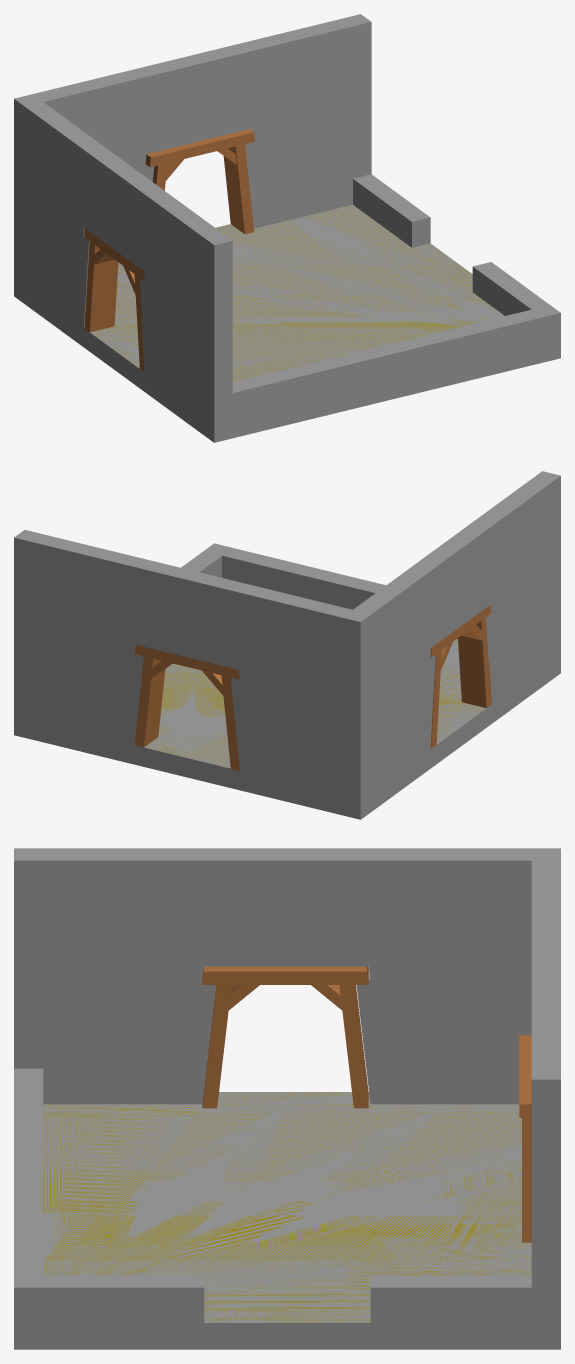
File: salaPequeñaDosPuertas.fbx
The picture shows the model from 3 angles, top to bottom: view 1: azimuth 30°, elevation 25°; view 2: azimuth 150°, elevation 25°; view 3: azimuth 270°, elevation 25°; orthographic projection. The views are drawn at different scales.
Visible parts, largest first — view 1: group_0, group_3, group_2, group_1; view 2: group_0, group_3, group_2, group_1; view 3: group_0.002, group_3, group_0, group_1, group_2.
Boxes of the visible parts, x1,y1,x2,y2 form: group_0: [14, 14, 560, 442]; group_3: [90, 204, 504, 382]; group_2: [145, 129, 254, 234]; group_1: [84, 228, 145, 371]; group_0: [14, 471, 560, 819]; group_3: [144, 639, 485, 768]; group_2: [134, 645, 239, 770]; group_1: [430, 605, 491, 748]; group_0.002: [14, 860, 531, 1104]; group_3: [43, 1092, 531, 1322]; group_0: [14, 848, 560, 1349]; group_1: [202, 966, 368, 1108]; group_2: [519, 1035, 531, 1242].
Size of the model in its own units: 1120 by 610 by 1120.
